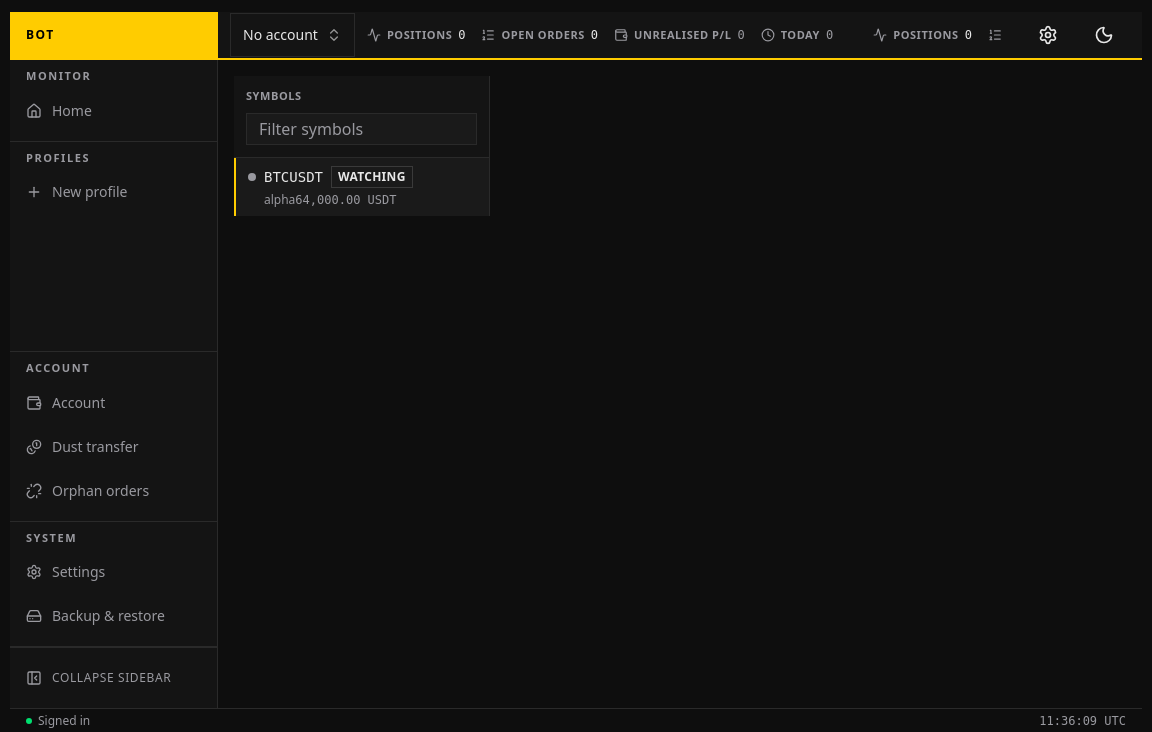
Test: <SymbolRail> › shows the no-match state (not empty) when the filter excludes every symbol
Type "zzz" into the search field with test id "symbol-rail-filter" at [362, 128], box x1=246 y1=112 x2=477 y2=144
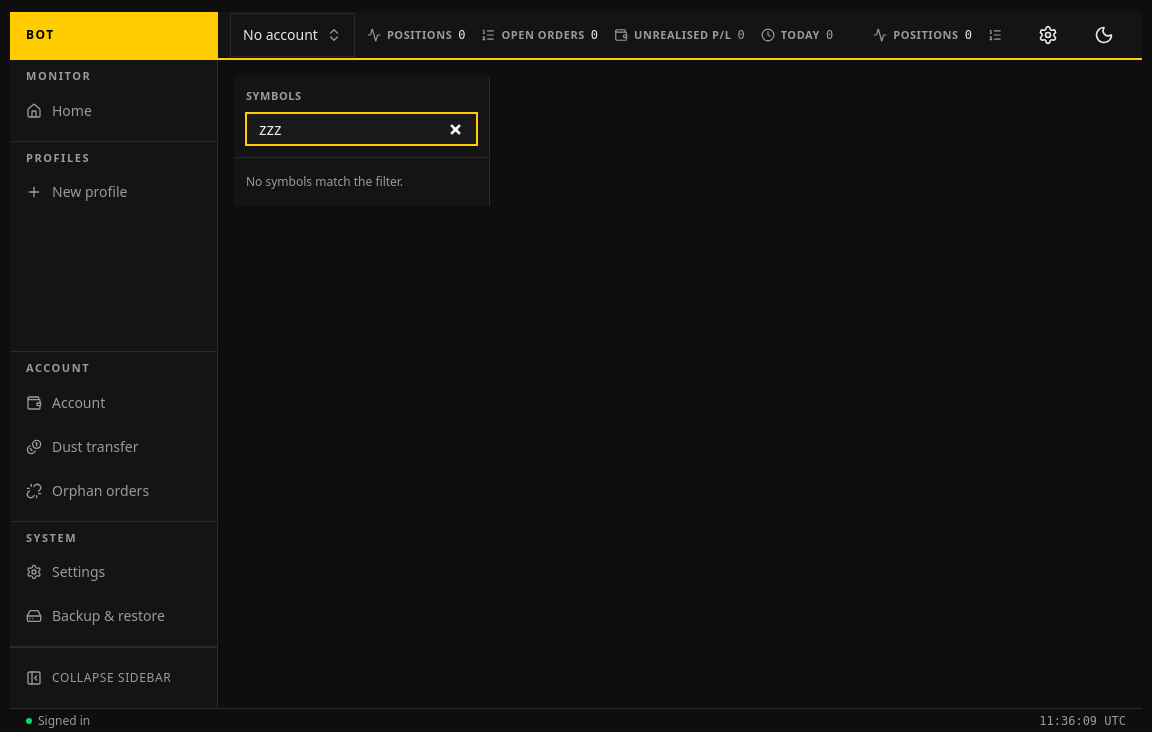
Expected: the text "No symbols match the filter." is shown, x1=246 y1=172 x2=403 y2=190
